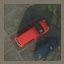car: (12, 20, 50, 48), (32, 42, 59, 59)
